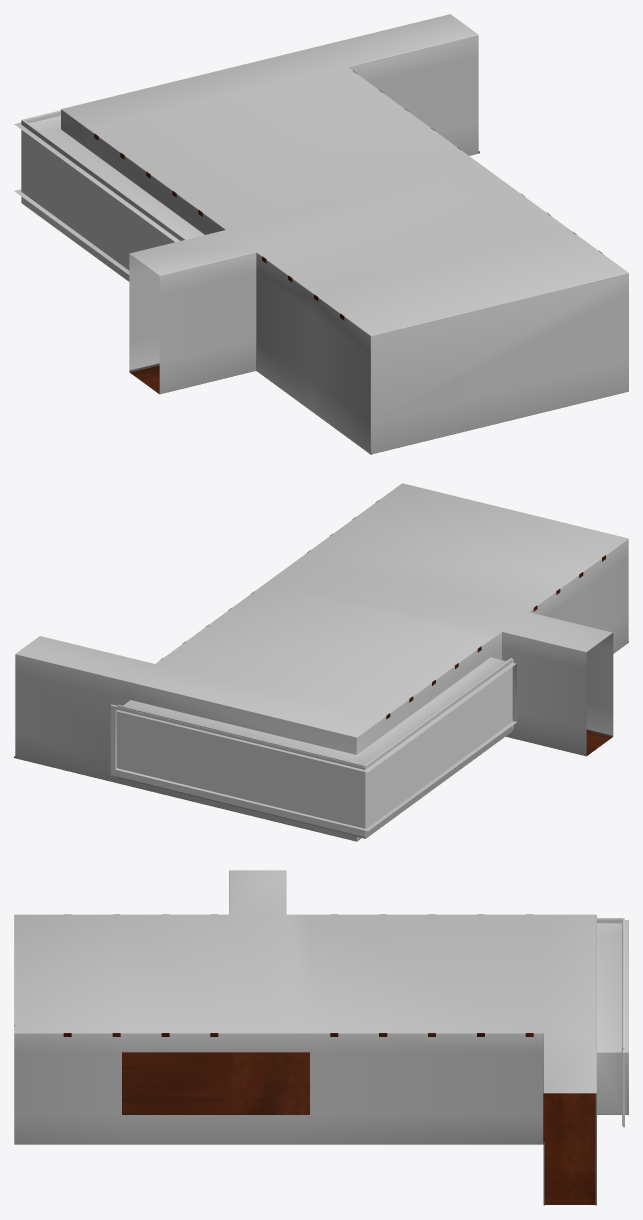
3 views of the same model, one above another, from view 1: azimuth 30°, elevation 25°; view 2: azimuth 150°, elevation 25°; view 3: azimuth 270°, elevation 25° (orthographic). The views are drawn at different scales.
Parts seen in each view (by area): view 1: Room; view 2: Room; view 3: Room.
Boxes of the visible parts, left/top/right/bottom form: Room: left=14, top=14, right=628, bottom=454; Room: left=14, top=483, right=628, bottom=841; Room: left=14, top=870, right=628, bottom=1205.
Size of the model in its own units: 1159 by 270 by 1347.
4 materials, 1 textured.
